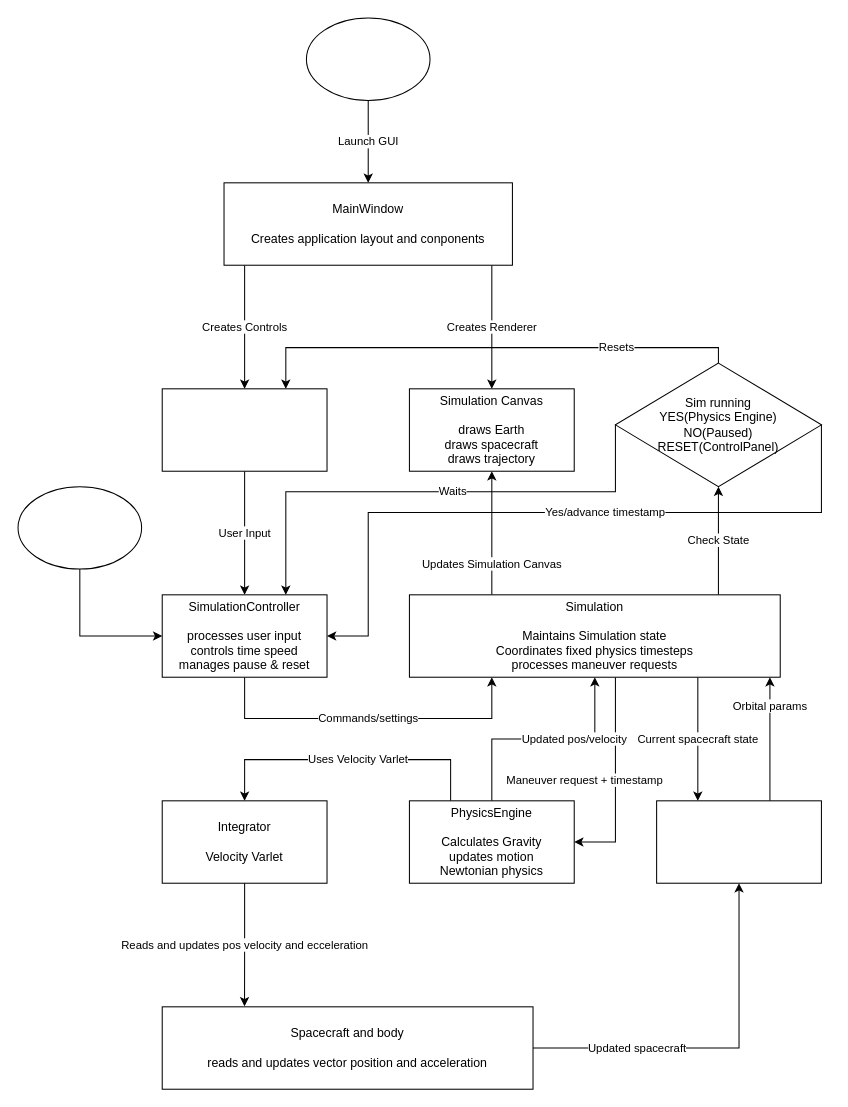
The diagram is 848 pixels wide and 1107 high, and some of its shapes have lost their labels. The box of each missing label's shape, as (x1, y1, x2, y2) in pixels:
ControlPanel initial altitude/velocity start pause & reset maneuver controls: (161, 388, 327, 471)
OrbitalCalculator Calculates altitude/ velocity apoapsis/periapsis: (656, 800, 821, 883)
Start Main.java launches JavaFX: (305, 17, 430, 100)
User maneuver inputs: (17, 486, 142, 569)
